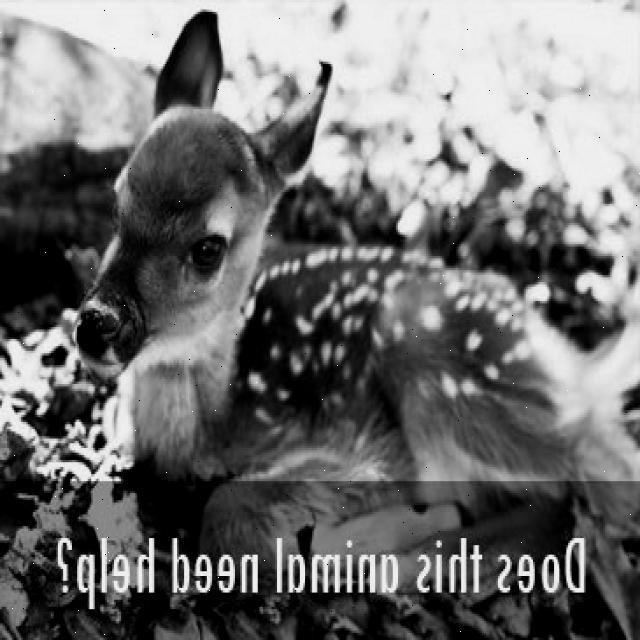deer: (56, 16, 353, 378)
